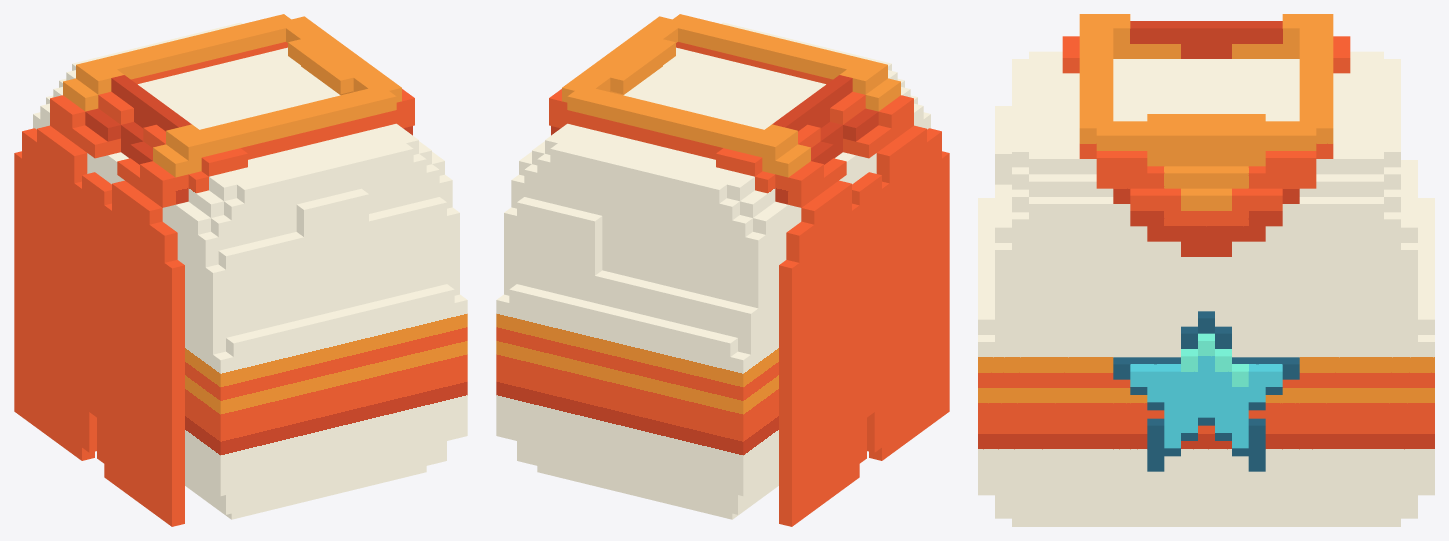
Rendered from 吉吉喵身体_3.gltf.
The picture shows the model from 3 angles, left to right: view 1: azimuth 30°, elevation 25°; view 2: azimuth 150°, elevation 25°; view 3: azimuth 270°, elevation 25°; orthographic projection. The views are drawn at different scales.
Visible parts, largest first — view 1: Object; view 2: Object; view 3: Object.
Boxes of the visible parts, x1,y1,x2,y2 form: Object: [14, 14, 467, 526]; Object: [496, 14, 949, 526]; Object: [978, 14, 1434, 526].
Bounding box in the file's own units: 23 × 26 × 27.
Materials: 1 (1 with a texture image).
